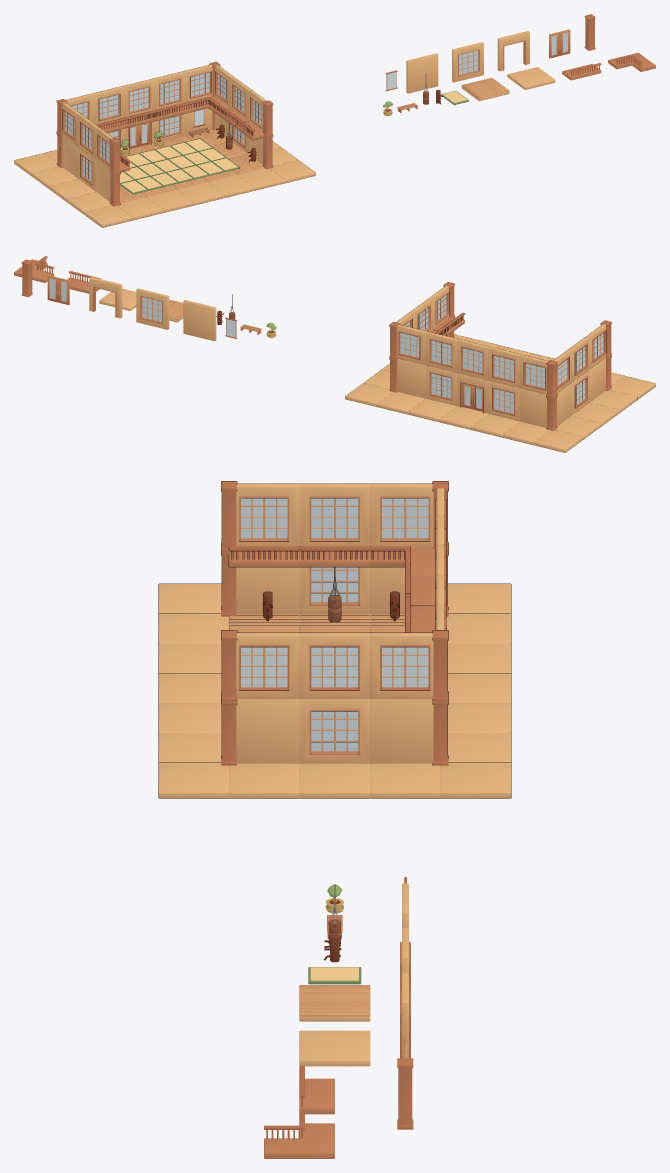
File: background.glb
3 renders of one model, top to bottom at view 1: azimuth 30°, elevation 25°; view 2: azimuth 150°, elevation 25°; view 3: azimuth 270°, elevation 25°, orthographic. The views are drawn at different scales.
Visible parts, largest first — view 1: dojo mockup, tile_wall_plain, tile_wall_window, tile_ground_wooden, tile_ground_plain, tile_wall_plain_door, tile_balcony_corner, tile_balcony, wall_column; view 2: dojo mockup, tile_wall_window, tile_wall_plain, tile_wall_plain_door, tile_balcony_corner, tile_ground_plain, wall_column, tile_balcony, door_left, tile_ground_wooden, door_right; view 3: dojo mockup, tile_ground_wooden, tile_ground_plain, tile_balcony_corner, tile_balcony, wall_column, tatami.
Boxes of the visible parts, <box> form: dojo mockup: <box>14,61,315,227</box>; tile_wall_plain: <box>406,53,438,93</box>; tile_wall_window: <box>452,42,483,82</box>; tile_ground_wooden: <box>461,77,509,101</box>; tile_ground_plain: <box>507,67,555,89</box>; tile_wall_plain_door: <box>497,31,529,71</box>; tile_balcony_corner: <box>608,52,655,71</box>; tile_balcony: <box>562,63,601,80</box>; wall_column: <box>584,14,595,50</box>; dojo mockup: <box>345,282,655,452</box>; tile_wall_window: <box>136,288,169,329</box>; tile_wall_plain: <box>183,300,216,341</box>; tile_wall_plain_door: <box>89,277,122,318</box>; tile_balcony_corner: <box>14,256,54,282</box>; tile_ground_plain: <box>99,288,136,310</box>; wall_column: <box>21,259,32,297</box>; tile_balcony: <box>67,271,100,293</box>; door_left: <box>47,275,58,302</box>; tile_ground_wooden: <box>169,299,183,322</box>; door_right: <box>58,278,69,304</box>; dojo mockup: <box>158,481,511,798</box>; tile_ground_wooden: <box>299,985,370,1021</box>; tile_ground_plain: <box>299,1030,370,1066</box>; tile_balcony_corner: <box>264,1110,334,1158</box>; tile_balcony: <box>299,1066,334,1114</box>; wall_column: <box>397,1058,413,1129</box>; tatami: <box>308,967,361,984</box>.
Size of the model in its own units: 38.02 by 4.33 by 10.03.
3 materials, 2 textured.
